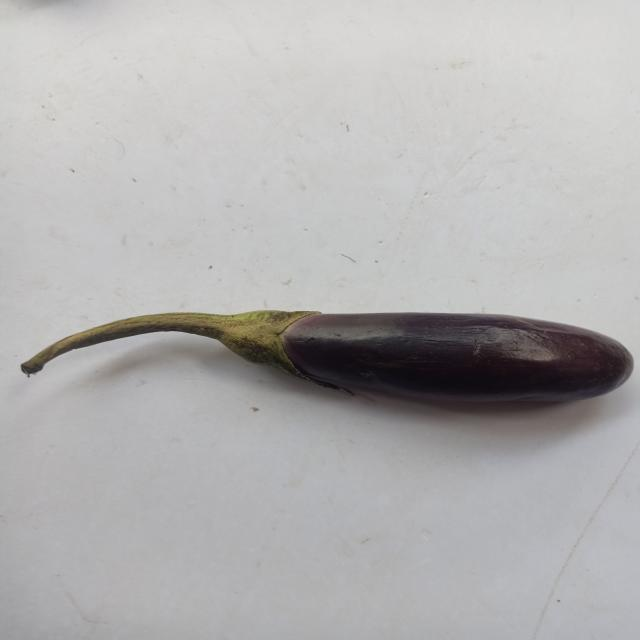Brinjal: (11, 260, 640, 468)
